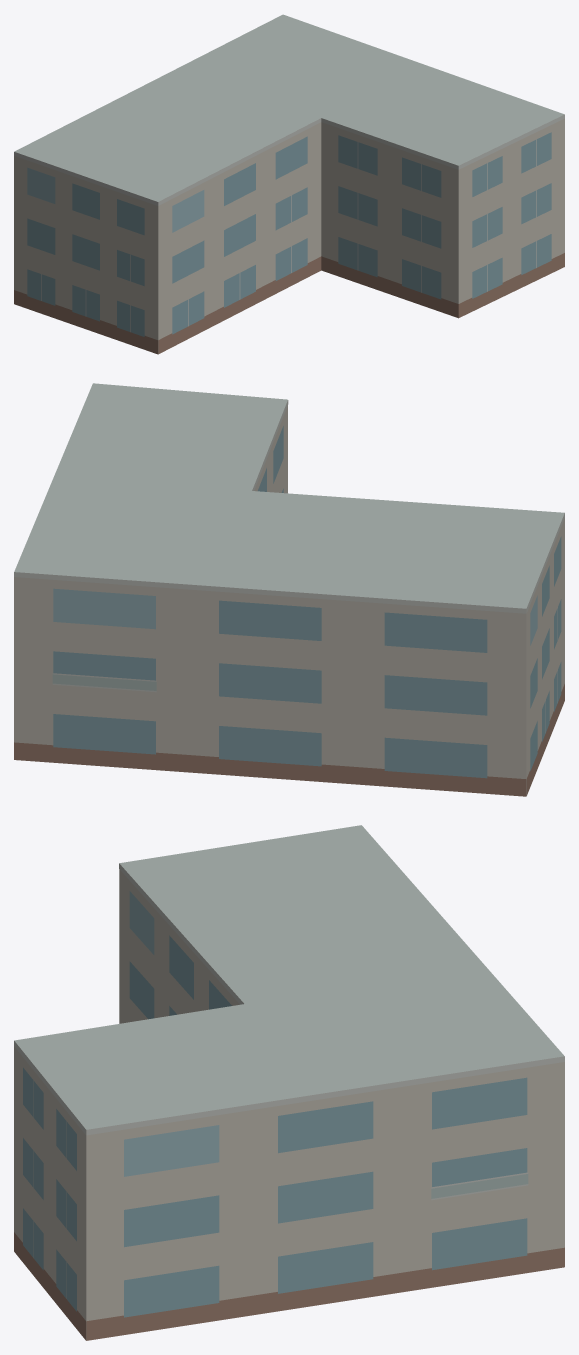
File: survey-upis-32834262.glb
3 renders of one model, top to bottom at view 1: azimuth 30°, elevation 25°; view 2: azimuth 150°, elevation 25°; view 3: azimuth 270°, elevation 25°, orthographic. The views are drawn at different scales.
Visible parts, largest first — view 1: survey-upis-32834262.tmp; view 2: survey-upis-32834262.tmp; view 3: survey-upis-32834262.tmp.
Part boxes in pixels (box(x1,y1,x2,y2)): survey-upis-32834262.tmp: box(14, 14, 564, 354); survey-upis-32834262.tmp: box(14, 383, 564, 796); survey-upis-32834262.tmp: box(14, 825, 564, 1340).
Bounding box in the file's own units: 28.36 × 9.15 × 21.66.
